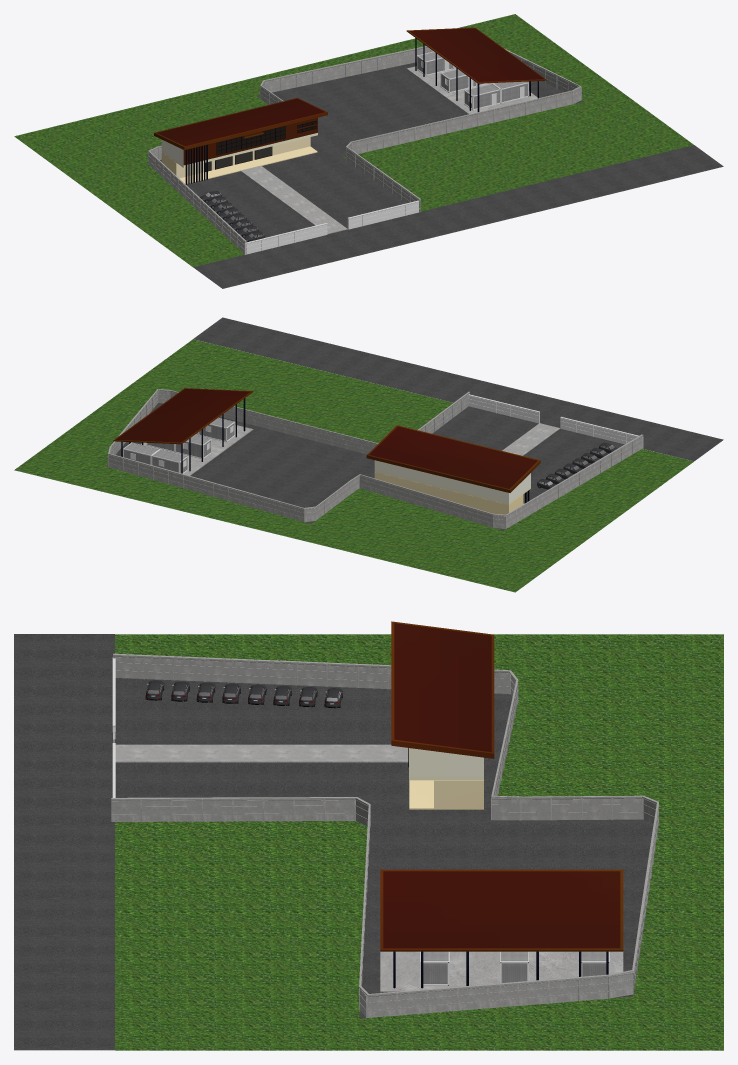
The model's file is velmiro-office.glb.
The picture shows the model from 3 angles, top to bottom: view 1: azimuth 30°, elevation 25°; view 2: azimuth 150°, elevation 25°; view 3: azimuth 270°, elevation 25°; orthographic projection. The views are drawn at different scales.
Visible parts, largest first — view 1: Plane, Curve, Plane.002, Cube.005, Cube.008, Cube.010, Plane.005, Cube.012, Plane.001, Cube.002, Cube.006, Cube.011 (+1 smaller); view 2: Plane, Curve, Plane.002, Cube.005, Cube.008, Cube.010, Cube.036, Plane.001, Cube.002, Cube.006, Plane.005, Cube.011 (+1 smaller); view 3: Plane, Curve, Plane.002, Cube.005, Cube.010, Cube.008, Plane.005, Plane.001, Cube.012, Cube.011, Cube.036.
Part boxes in pixels (<box>): Plane: <box>14,14,693,266</box>; Curve: <box>147,62,583,237</box>; Plane.002: <box>193,145,723,288</box>; Cube.005: <box>148,46,581,254</box>; Cube.008: <box>154,98,327,184</box>; Cube.010: <box>406,27,546,114</box>; Plane.005: <box>241,165,347,234</box>; Cube.012: <box>464,81,528,110</box>; Plane.001: <box>200,191,265,242</box>; Cube.002: <box>244,223,327,254</box>; Cube.006: <box>347,200,419,229</box>; Cube.011: <box>440,69,489,93</box>; Plane: <box>14,339,693,592</box>; Curve: <box>106,403,624,530</box>; Plane.002: <box>193,317,723,461</box>; Cube.005: <box>107,389,643,529</box>; Cube.008: <box>366,425,540,514</box>; Cube.010: <box>113,388,253,475</box>; Cube.036: <box>123,442,188,473</box>; Plane.001: <box>537,442,617,489</box>; Cube.002: <box>560,416,643,448</box>; Cube.006: <box>468,394,539,423</box>; Plane.005: <box>502,423,560,455</box>; Cube.011: <box>146,435,211,459</box>; Plane: <box>115,634,723,1050</box>; Curve: <box>115,678,653,1018</box>; Plane.002: <box>14,634,114,1050</box>; Cube.005: <box>111,653,658,1018</box>; Cube.010: <box>380,869,623,992</box>; Cube.008: <box>391,621,494,809</box>; Plane.005: <box>115,744,408,762</box>; Plane.001: <box>145,680,342,708</box>; Cube.012: <box>420,951,449,986</box>; Cube.011: <box>500,951,529,983</box>; Cube.036: <box>581,951,609,976</box>.
Bounding box in the file's own units: 118 × 9.63 × 84.71.
Materials: 21 (8 with a texture image).
